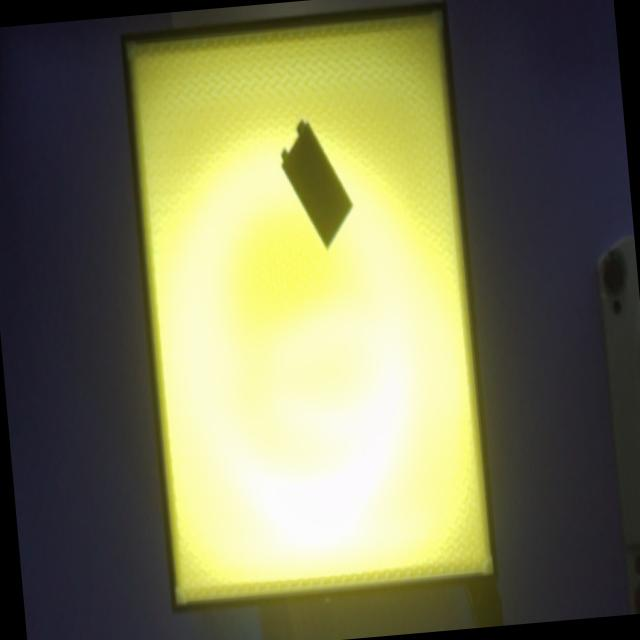bateria: (280, 121, 353, 249)
mesa: (120, 1, 498, 613)
